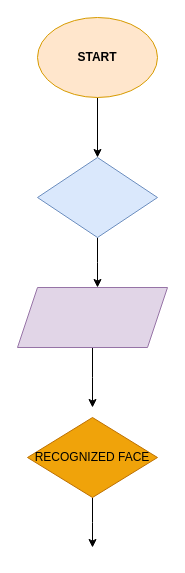
The diagram is 185 pixels wide and 573 high, and some of its shapes have lost their labels. The shapes that lost their labels are listed below. From the top down, each one's centre as x and y in pixels, then its label:
pixel 97 197: NEW USER
pixel 92 317: RECOGNIZE THE FACE
